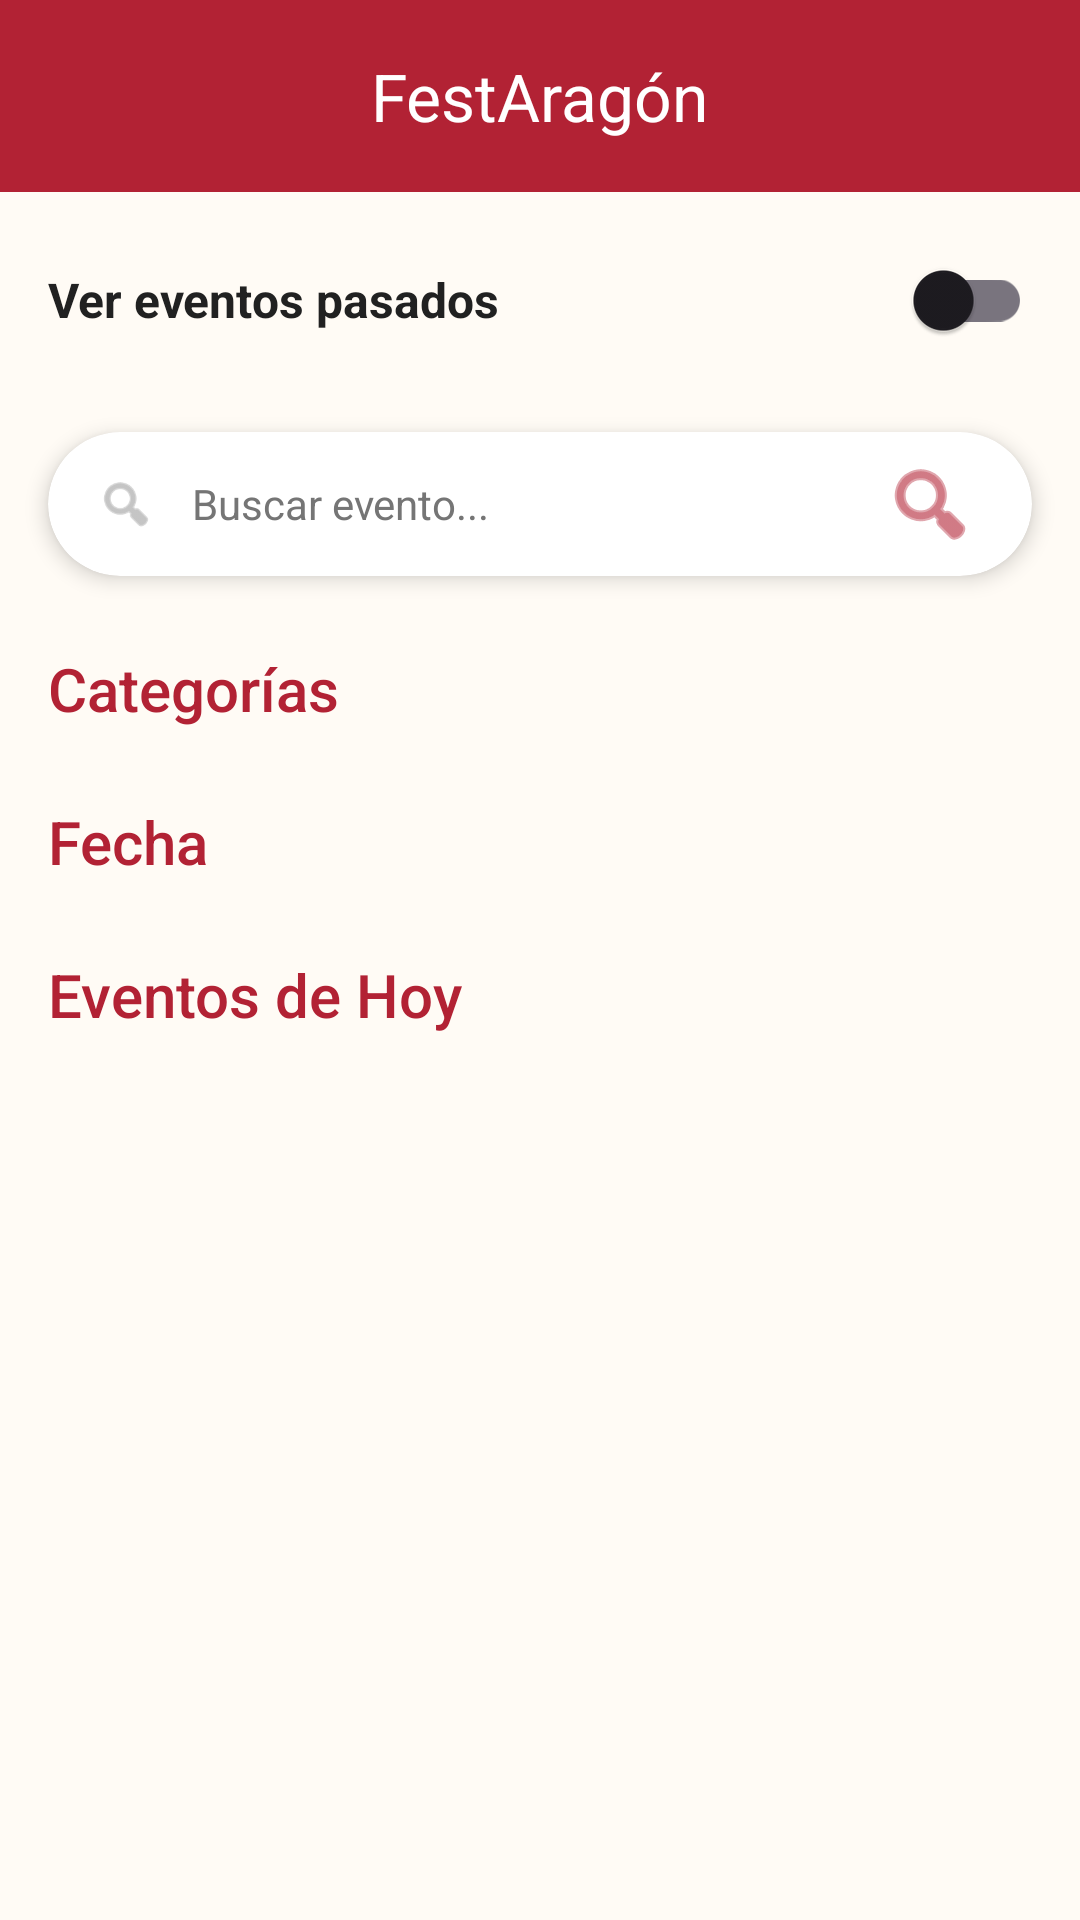

Named icons in this screenshot (1080*1920) and their bounding boxes, (left=x1, top=y1, right=x2, bottom=y2):
search: (left=104, top=482, right=148, bottom=526)
